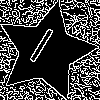I: (21, 26, 57, 72)
